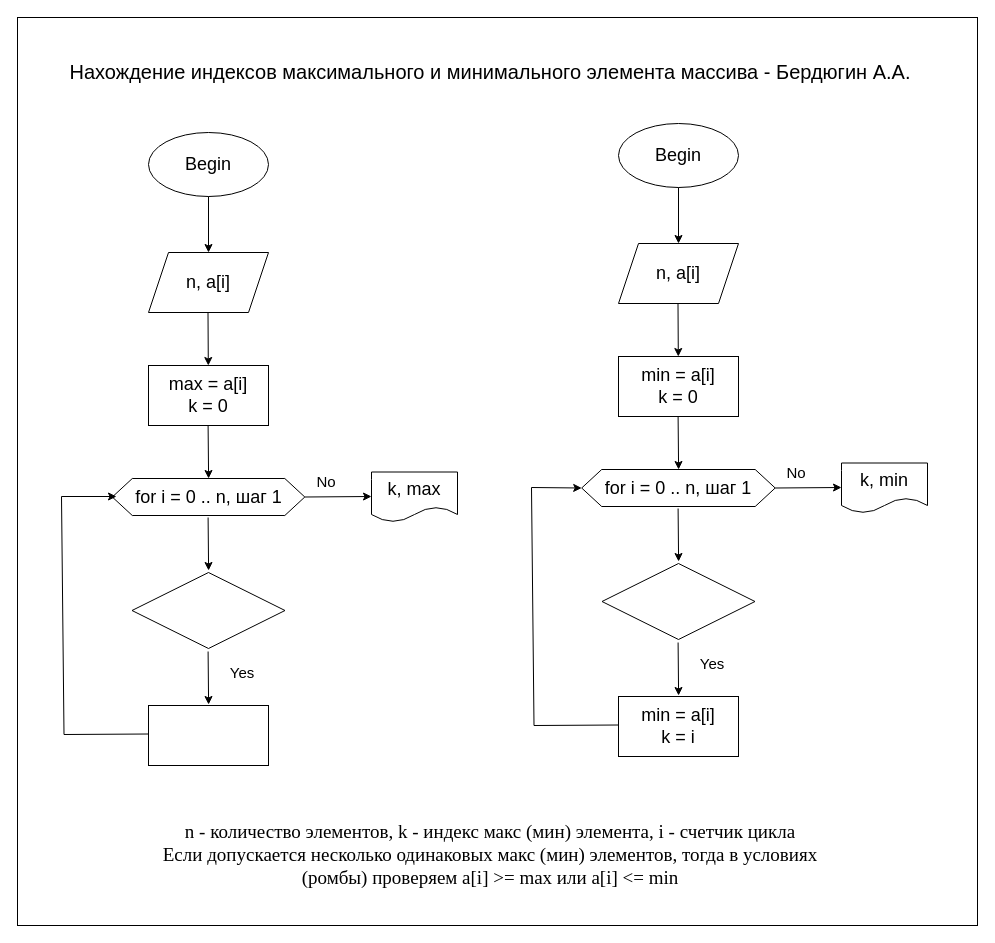
Image size: 995x943. Some labels were removed from this diagram. The shapes that lost their labels are listed below. From the top down, each one's box as (x1, y1, x2, y2) in pixels, then its label:
(131, 572, 285, 648): a[i] > max ?
(601, 562, 755, 640): a[i] < min ?
(148, 704, 268, 766): max = a[i] k = i
